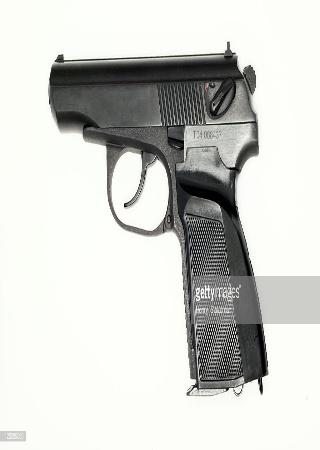handgun: (47, 45, 270, 397)
